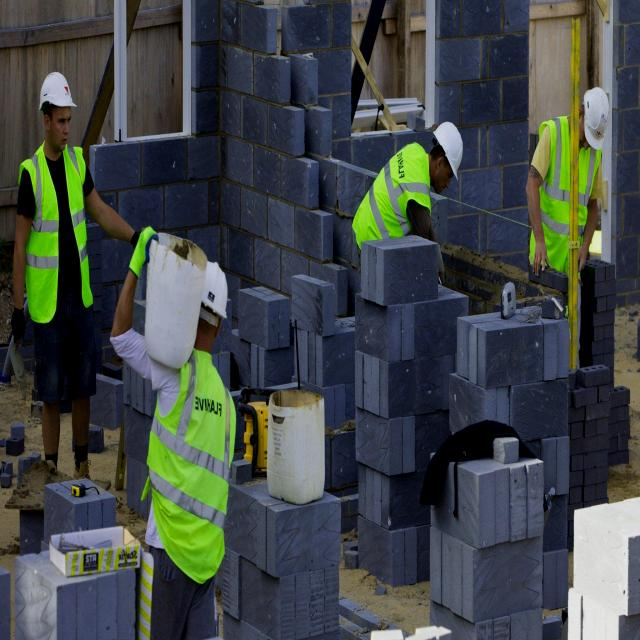face_nomask: (43, 106, 74, 156)
hand_glove: (123, 211, 160, 278)
hand_noglove: (527, 234, 549, 279), (571, 237, 594, 277)
head_helmet: (432, 120, 464, 181), (583, 86, 611, 152), (40, 69, 80, 115), (202, 258, 228, 320)
person: (6, 63, 103, 470), (139, 259, 235, 544), (524, 86, 611, 366), (351, 117, 464, 277)
vest: (146, 348, 237, 580), (21, 144, 91, 322), (526, 116, 602, 265), (354, 144, 431, 246)
